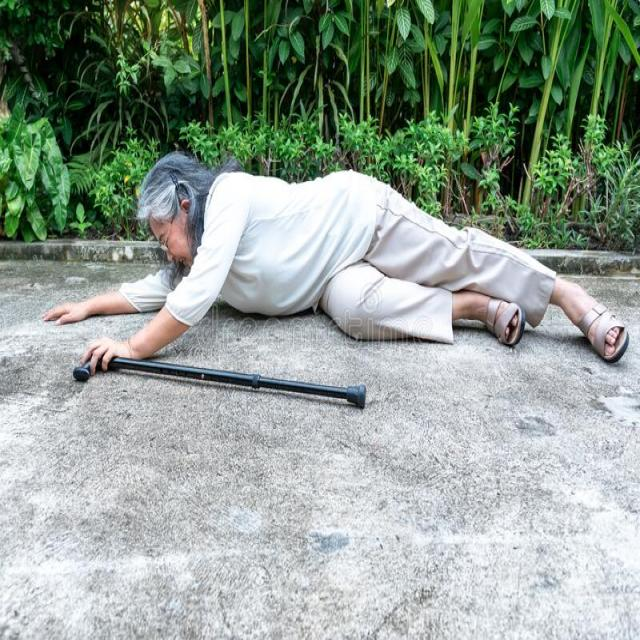Fall-Detected: (32, 152, 621, 406)
